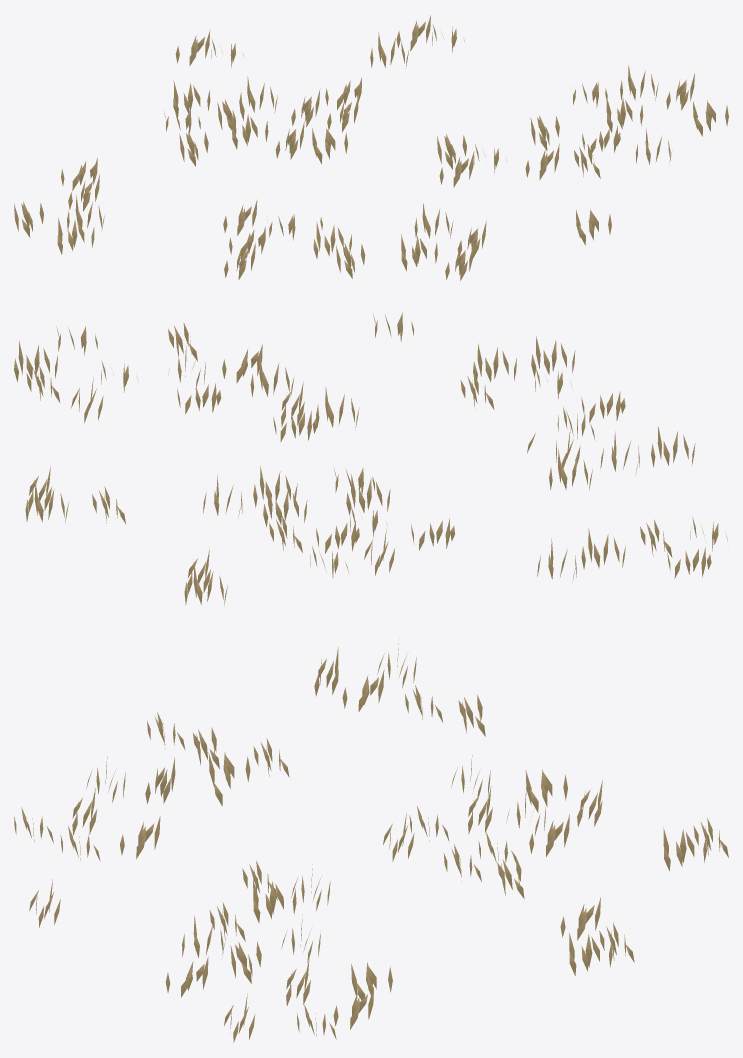
Rendered from plants_un_main_grass_set21_02.gltf.
3 renders of one model, top to bottom at view 1: azimuth 30°, elevation 25°; view 2: azimuth 150°, elevation 25°; view 3: azimuth 270°, elevation 25°, orthographic. The views are drawn at different scales.
Visible parts, largest first — view 1: plants_un_main_grass_set21_02_mesh_shape:plants_un_main_gras; view 2: plants_un_main_grass_set21_02_mesh_shape:plants_un_main_gras; view 3: plants_un_main_grass_set21_02_mesh_shape:plants_un_main_gras.
Part boxes in pixels (x1,y1,x2,y2): plants_un_main_grass_set21_02_mesh_shape:plants_un_main_gras: (14,15,728,280); plants_un_main_grass_set21_02_mesh_shape:plants_un_main_gras: (14,312,727,605); plants_un_main_grass_set21_02_mesh_shape:plants_un_main_gras: (14,643,728,1042).
Size of what is drawn, in the model's own units: 9.09 by 0.4196 by 7.36.
1 material, 1 textured.
